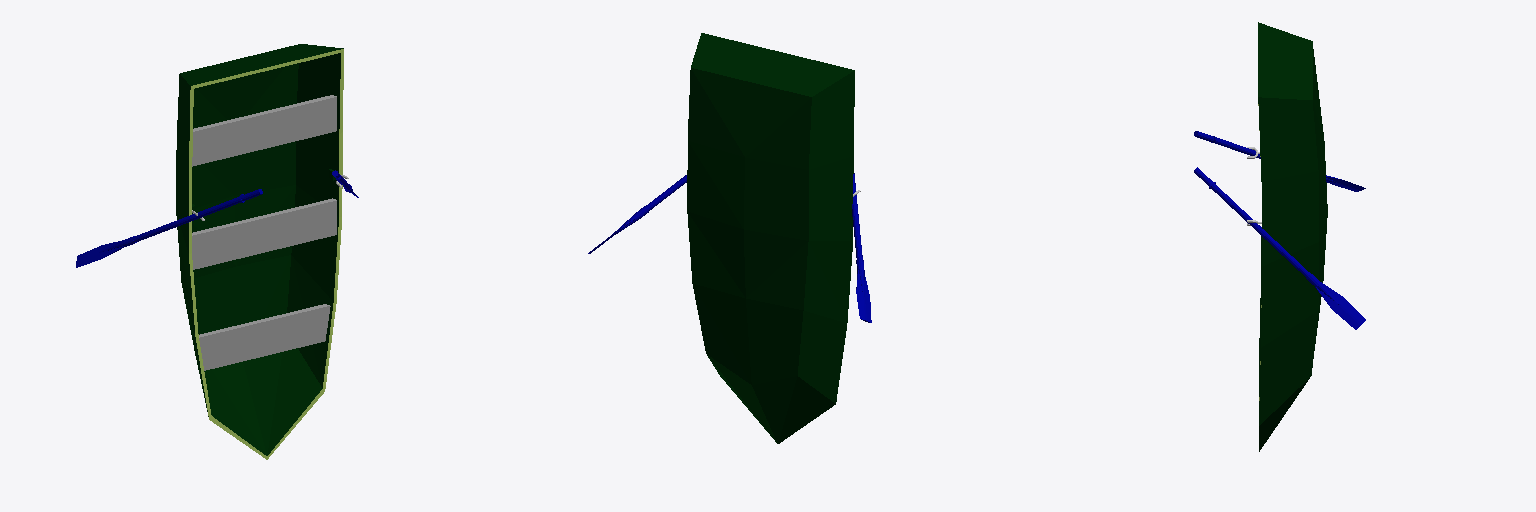
File: boat7.obj
The picture shows the model from 3 angles: view 1: azimuth 30°, elevation 25°; view 2: azimuth 150°, elevation 25°; view 3: azimuth 270°, elevation 25°; orthographic projection.
Visible parts, largest first — view 1: Boats_Cube.012, Oar-R_Cylinder; view 2: Boats_Cube.012, Oar-R_Cylinder, Oar-L_Cylinder.001; view 3: Boats_Cube.012, Oar-L_Cylinder.001, Oar-R_Cylinder.
Boxes of the visible parts, <box> form: Boats_Cube.012: <box>176,44,343,459</box>; Oar-R_Cylinder: <box>76,189,262,267</box>; Boats_Cube.012: <box>687,33,854,443</box>; Oar-R_Cylinder: <box>852,173,871,322</box>; Oar-L_Cylinder.001: <box>588,175,686,253</box>; Boats_Cube.012: <box>1258,22,1327,451</box>; Oar-L_Cylinder.001: <box>1194,167,1365,329</box>; Oar-R_Cylinder: <box>1194,131,1365,191</box>.
Bounding box in the file's own units: 8.58 × 11.37 × 4.54.